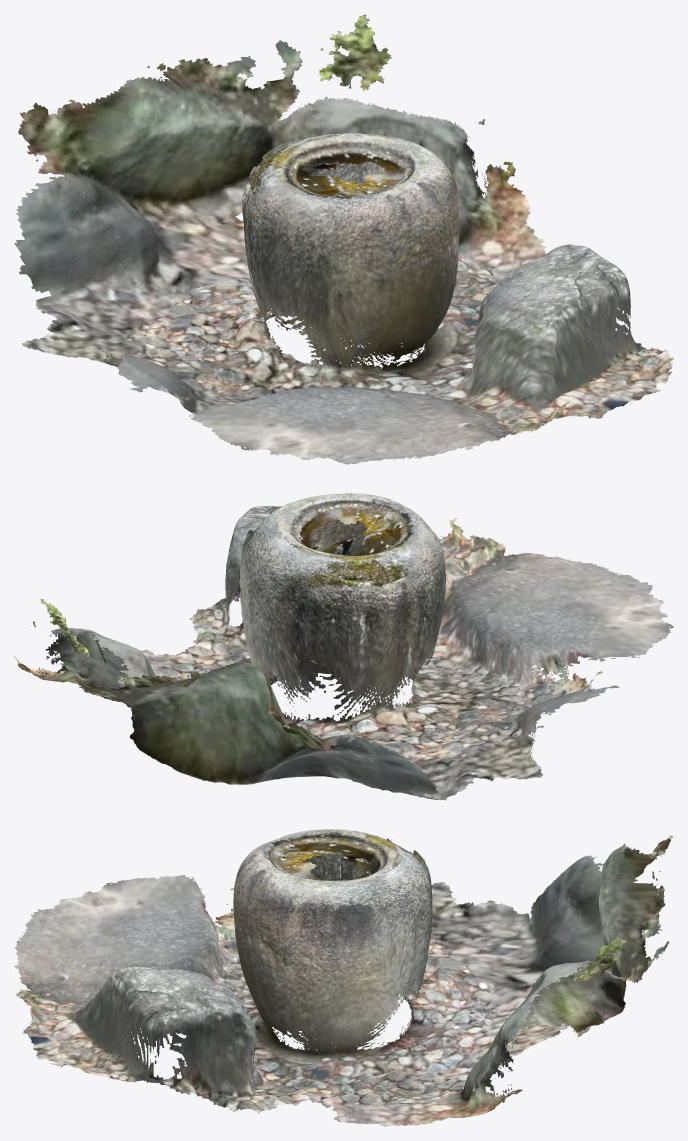
Rendered from tsukubai-transformed.glb.
The picture shows the model from 3 angles, top to bottom: view 1: azimuth 30°, elevation 25°; view 2: azimuth 150°, elevation 25°; view 3: azimuth 270°, elevation 25°; orthographic projection. The views are drawn at different scales.
Visible parts, largest first — view 1: textured_output_2; view 2: textured_output_2; view 3: textured_output_2.
Part boxes in pixels (<box>): textured_output_2: <box>14,14,673,464</box>; textured_output_2: <box>14,493,673,800</box>; textured_output_2: <box>14,829,672,1126</box>.
Bounding box in the file's own units: 5.3 × 1.81 × 6.25.
1 material, 1 textured.
